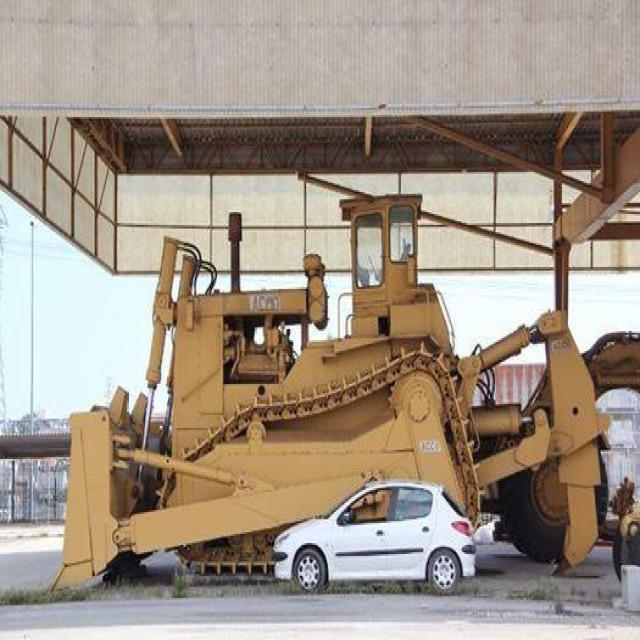Bulldozer: (44, 152, 617, 602)
